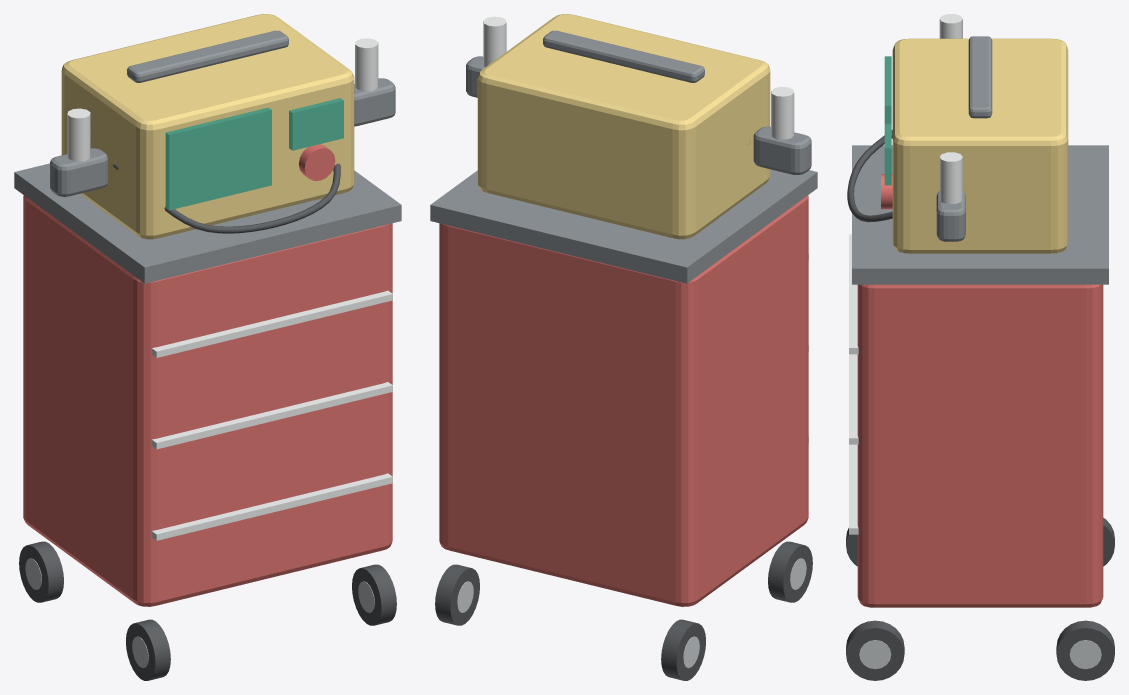
Rendered from defib.glb.
3 views of the same model, side by side, from view 1: azimuth 30°, elevation 25°; view 2: azimuth 150°, elevation 25°; view 3: azimuth 270°, elevation 25° (orthographic).
Parts seen in each view (by area): view 1: defib, wheel_3, wheel_0, wheel_2; view 2: defib, wheel_1, wheel_2, wheel_0; view 3: defib, wheel_1, wheel_3, wheel_0.
Part boxes in pixels (<box>): defib: <box>14,14,401,606</box>; wheel_3: <box>352,564,396,625</box>; wheel_0: <box>19,541,63,602</box>; wheel_2: <box>126,619,170,680</box>; defib: <box>430,14,817,606</box>; wheel_1: <box>435,564,479,625</box>; wheel_2: <box>768,541,812,602</box>; wheel_0: <box>661,619,705,680</box>; defib: <box>847,14,1108,607</box>; wheel_1: <box>1056,620,1114,680</box>; wheel_3: <box>846,620,904,680</box>; wheel_0: <box>1103,518,1114,566</box>.
Size of the model in its own units: 0.66 by 1.04 by 0.46.
